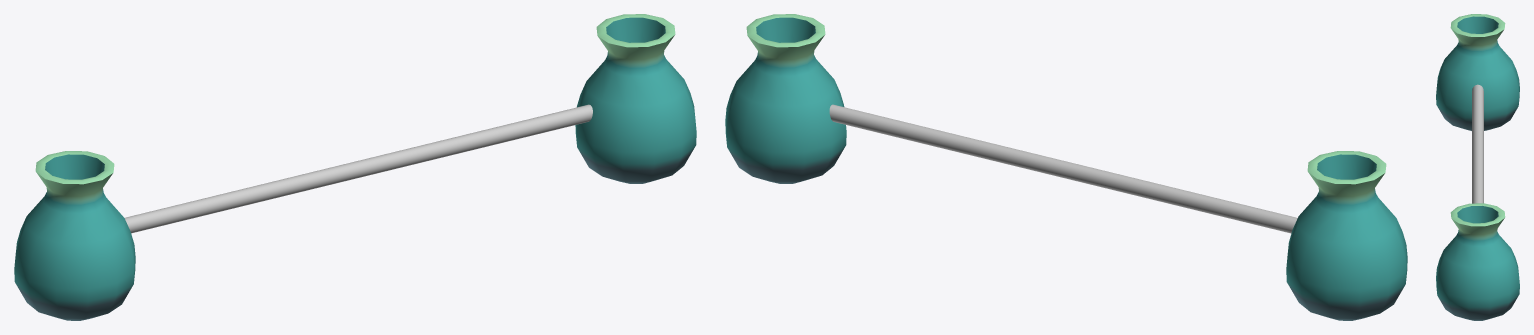
3 views of the same model, side by side, from view 1: azimuth 30°, elevation 25°; view 2: azimuth 150°, elevation 25°; view 3: azimuth 270°, elevation 25° (orthographic). The views are drawn at different scales.
Parts seen in each view (by area): view 1: pottery.008, Cylinder; view 2: pottery.008, Cylinder; view 3: pottery.008, Cylinder.
Part boxes in pixels (box(x1,y1,x2,y2)): pottery.008: box(14, 14, 696, 320); Cylinder: box(124, 104, 592, 233); pottery.008: box(725, 14, 1407, 320); Cylinder: box(829, 104, 1297, 233); pottery.008: box(1436, 14, 1519, 320); Cylinder: box(1472, 84, 1483, 203).
Bounding box in the file's own units: 1.66 × 0.3449 × 0.2615.
Materials: 2 (1 with a texture image).
